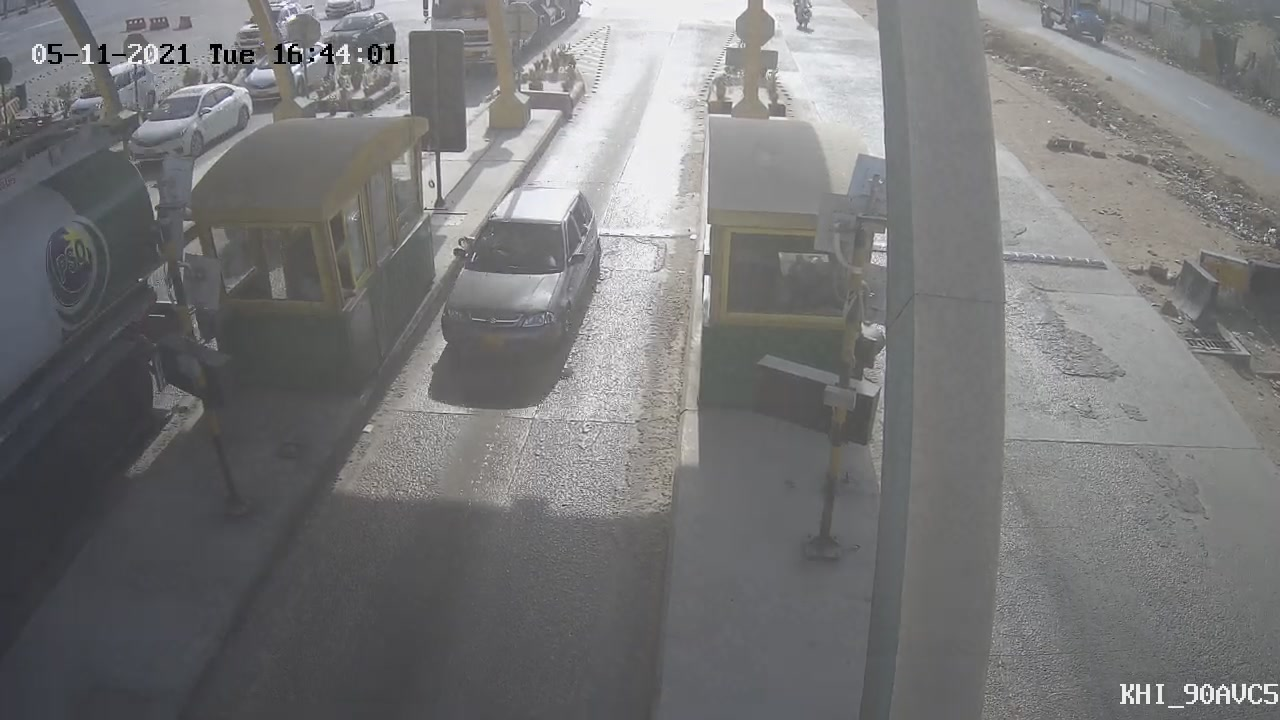F1: (424, 162, 617, 378)
